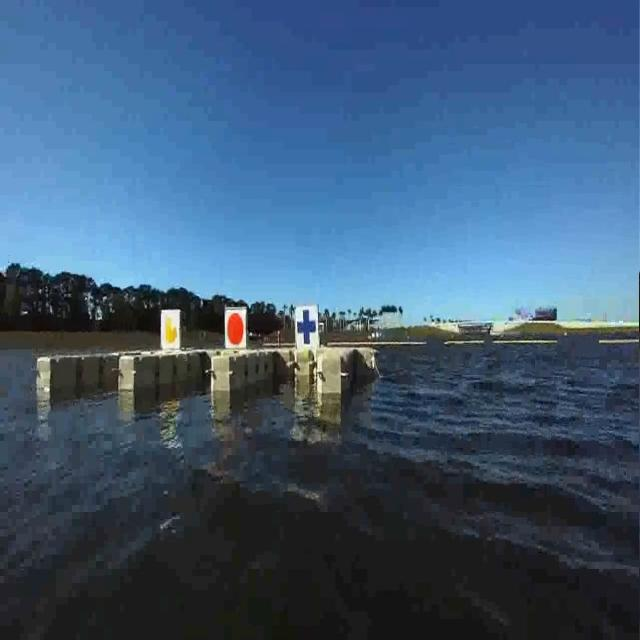blue-cross: (291, 308, 325, 349)
red-buoy: (228, 312, 246, 343)
yellow-buoy: (166, 316, 176, 332)
